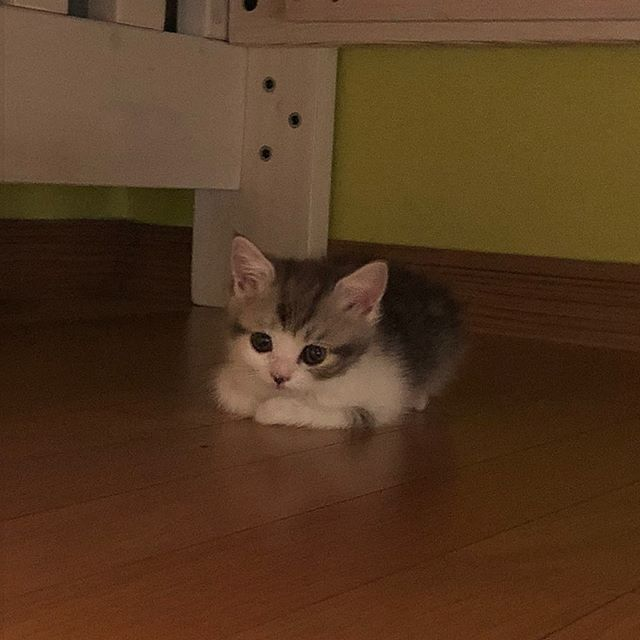cat: (224, 228, 392, 392)
